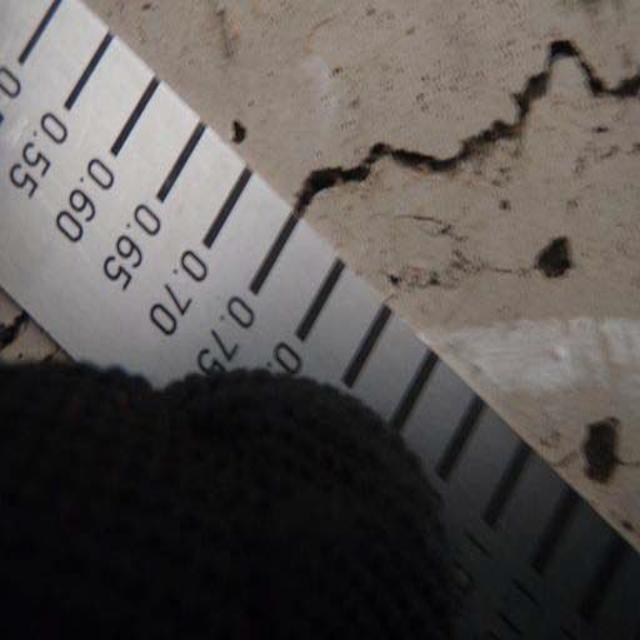crack: (278, 40, 640, 208)
